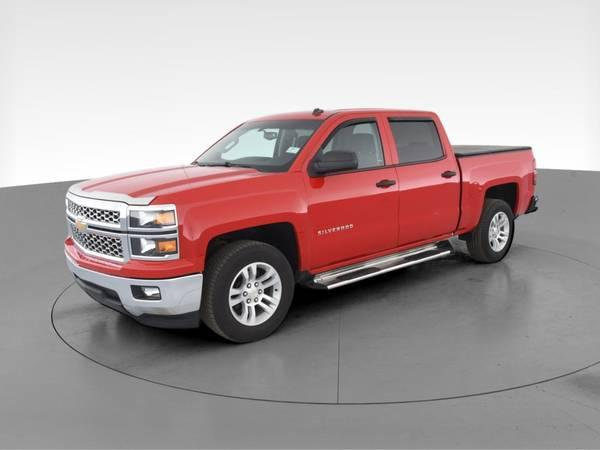Front_Bumper: (63, 238, 205, 327)
Front_Fender: (174, 179, 310, 269)
Front_Left_Door: (304, 165, 398, 270)
Front_Left_Window: (305, 117, 391, 178)
Front_Windshield: (193, 121, 321, 173)
Grille: (65, 194, 129, 262)
Hood: (66, 164, 286, 205)
Left_Headlight: (130, 203, 180, 262)
Rear_Fender: (457, 147, 539, 232)
Rear_Left_Door: (396, 154, 461, 247)
Rear_Left_Window: (379, 117, 442, 169)
Roof: (246, 108, 453, 175)
Wheel: (208, 239, 298, 344), (470, 197, 519, 264)
